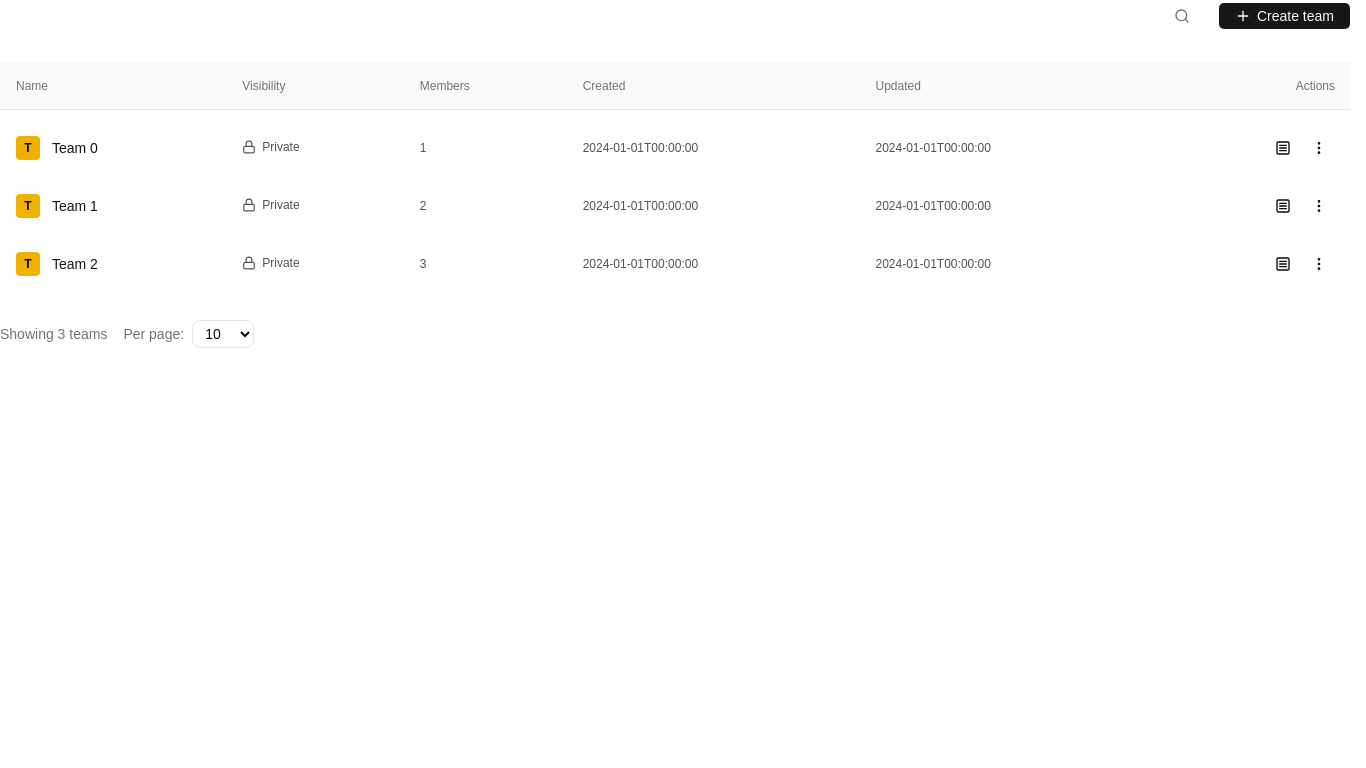
Teams › removes team from list and shows success toast after API responds
This screenshot has width=1366, height=768.
Check: the text "Team 0" is shown, box [52,138,98,158]
Click the button named "Actions for Team 0" at (1319, 148), box [1303,132,1335,164]
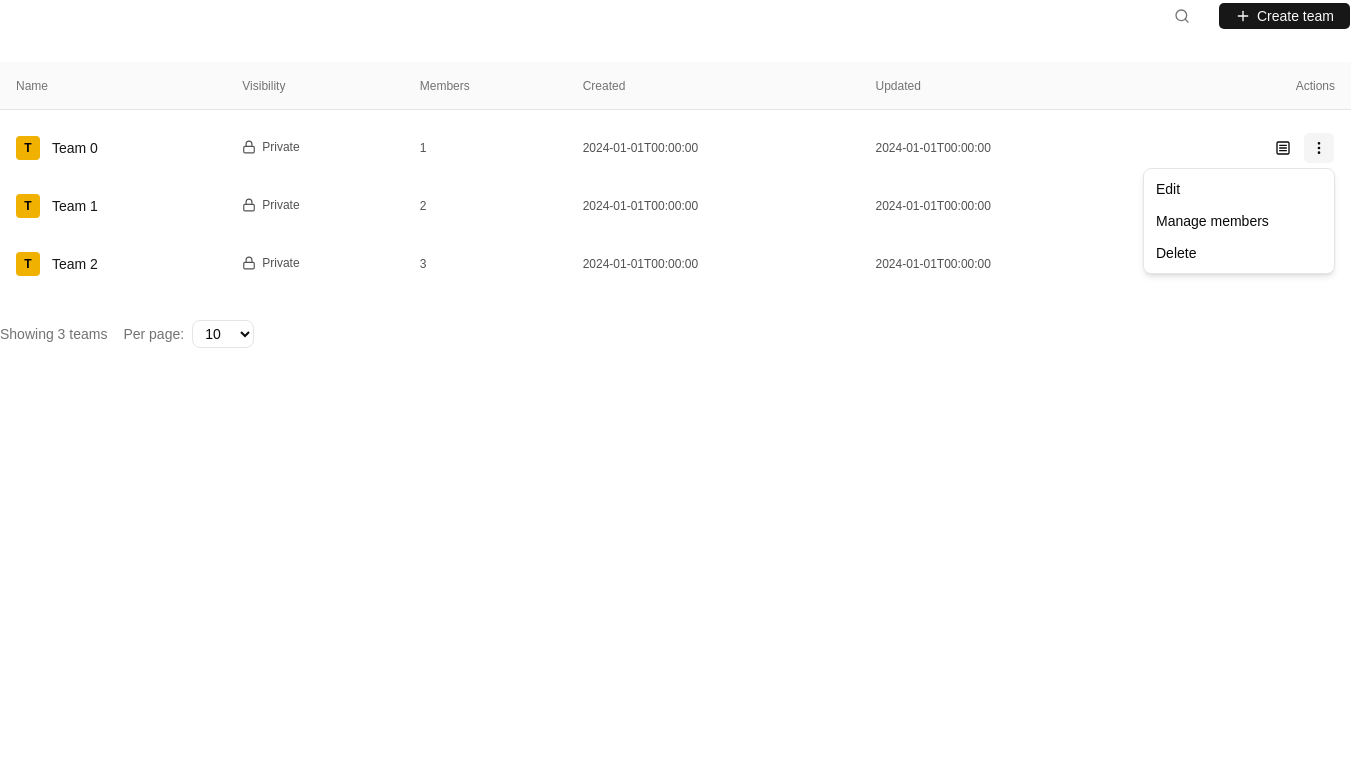
Click the menu item "Delete" at (1176, 253), box [1156,245,1196,261]
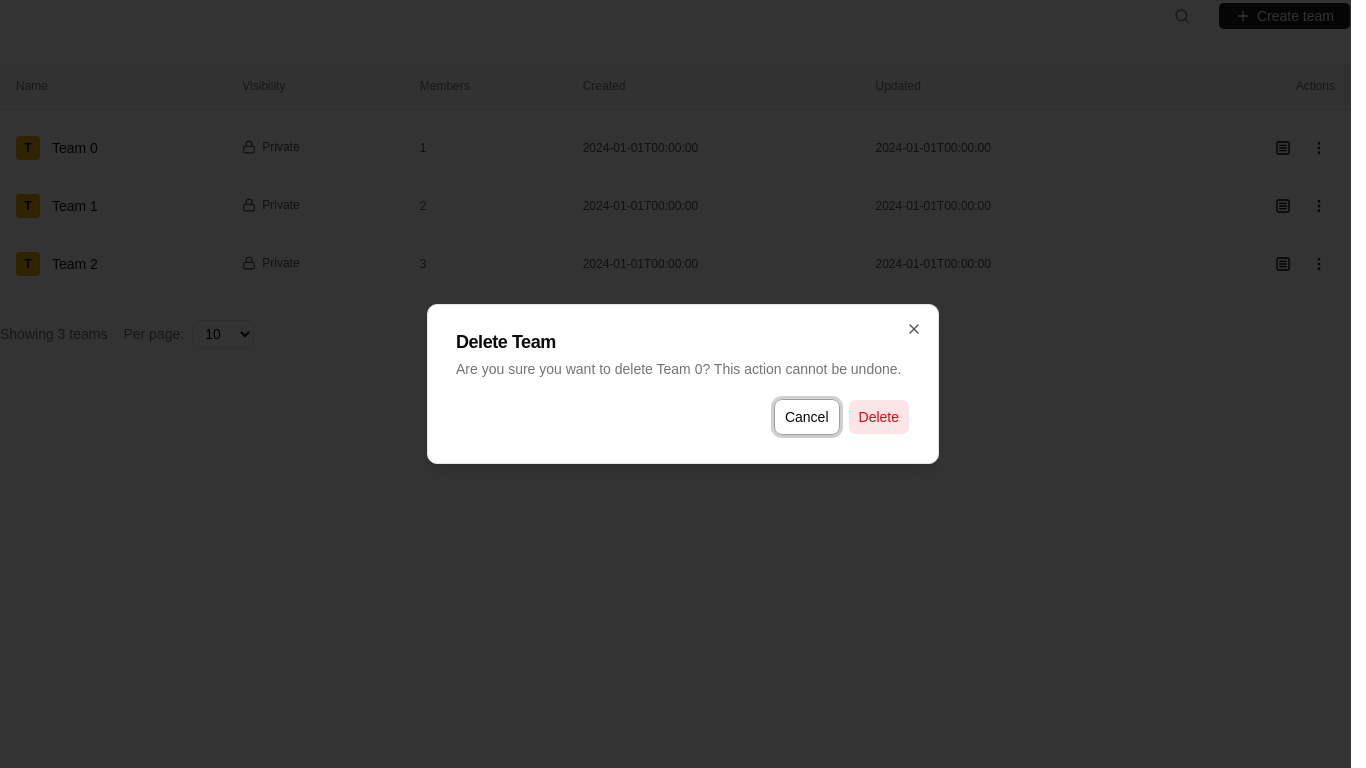
Click the button "Delete" at (879, 417), box [848,399,910,435]
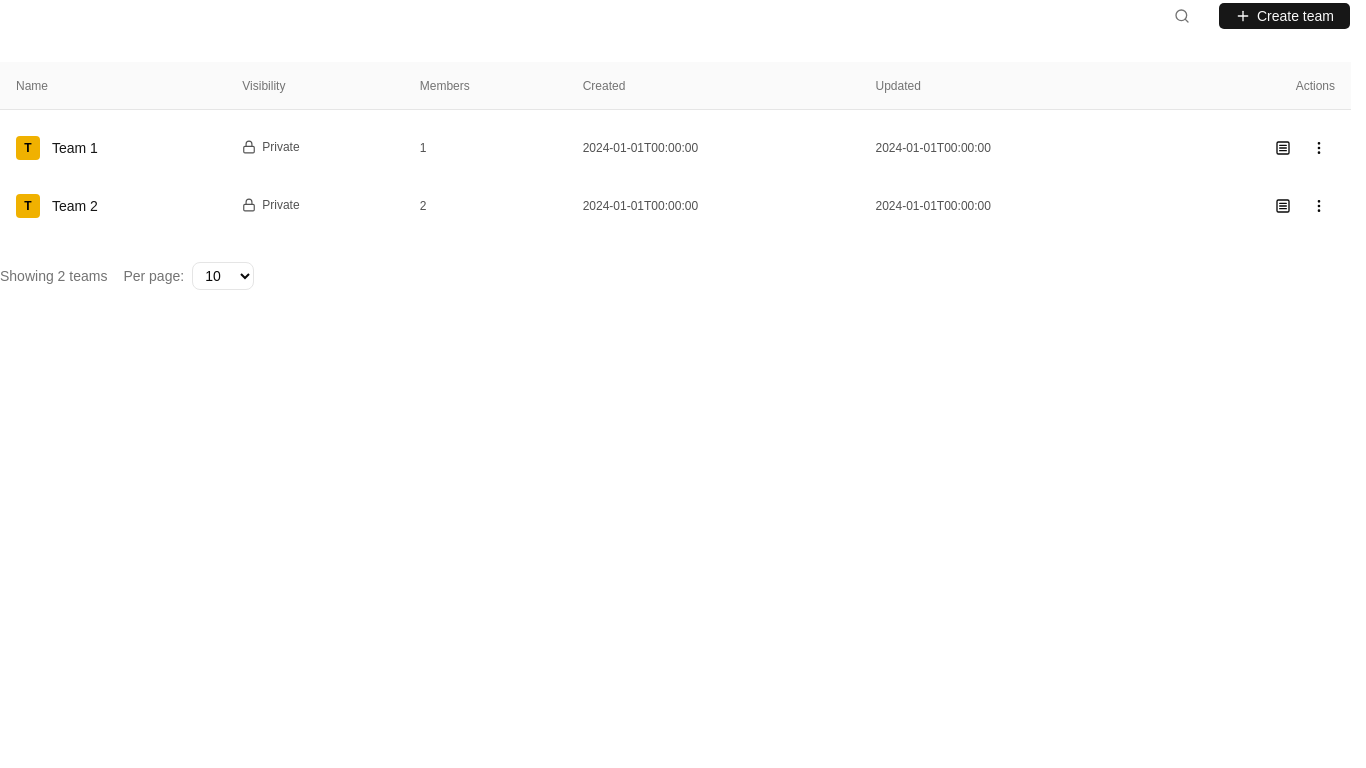
Check: the text "Team 1" is shown, box [52,138,98,158]
Check: the text "Team 0" is gone
